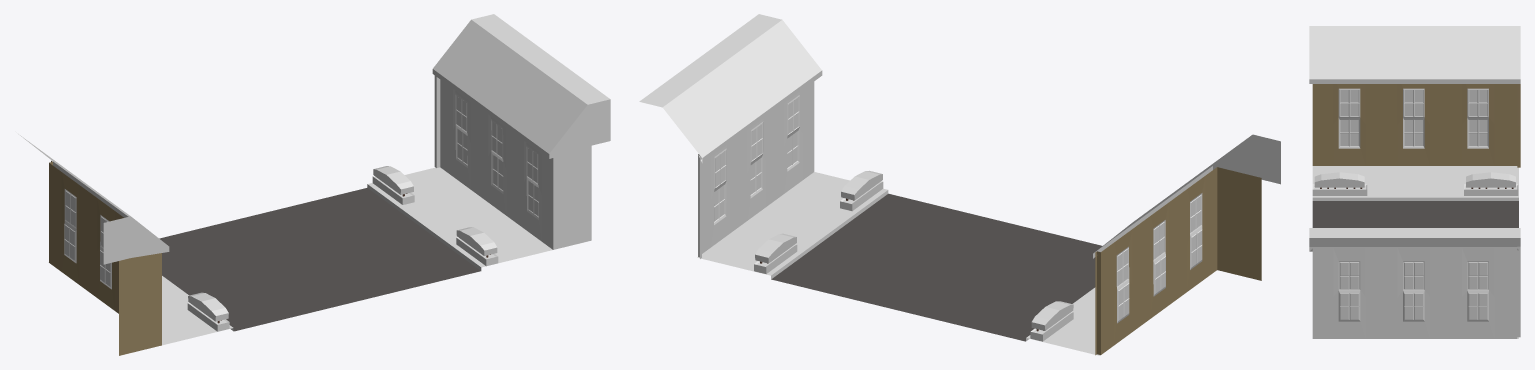
File: RUATileUm.fbx
The picture shows the model from 3 angles, left to right: view 1: azimuth 30°, elevation 25°; view 2: azimuth 150°, elevation 25°; view 3: azimuth 270°, elevation 25°; orthographic projection. The views are drawn at different scales.
Visible parts, largest first — view 1: RUATileUm; view 2: RUATileUm; view 3: RUATileUm.
Boxes of the visible parts, <box> form: RUATileUm: <box>18,14,610,355</box>; RUATileUm: <box>639,14,1280,355</box>; RUATileUm: <box>1309,26,1520,338</box>.
Size of the model in its own units: 1541 by 413 by 613.
